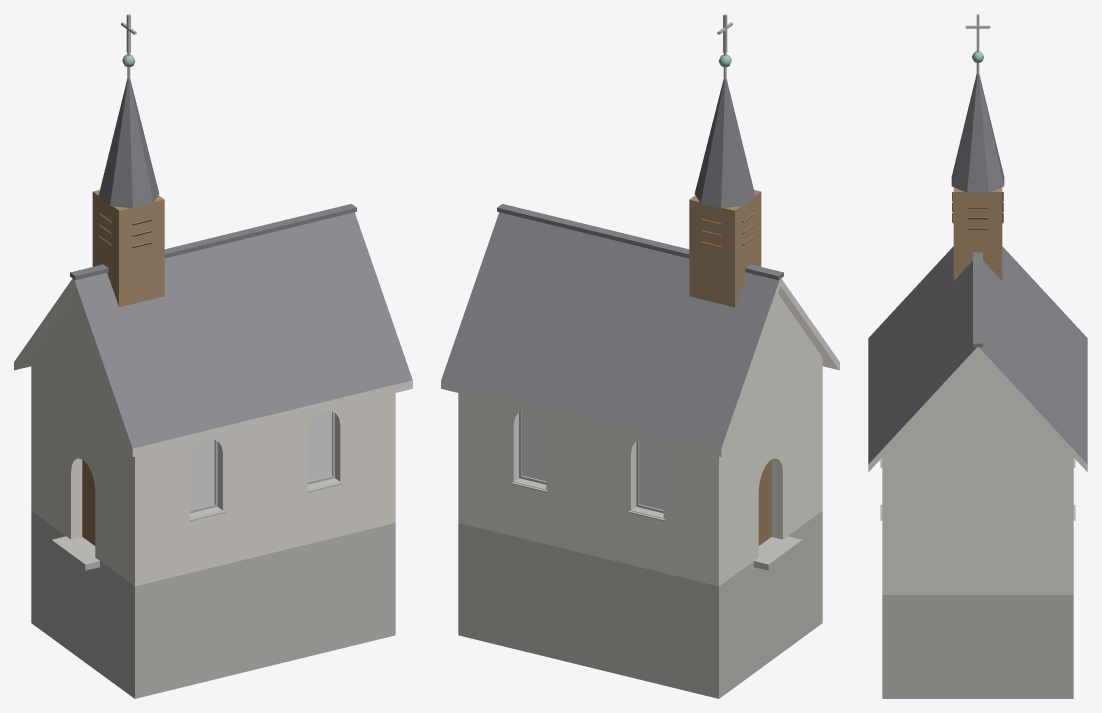
The model's file is chapel_s.glb.
3 views of the same model, side by side, from view 1: azimuth 30°, elevation 25°; view 2: azimuth 150°, elevation 25°; view 3: azimuth 270°, elevation 25° (orthographic). The views are drawn at different scales.
Visible parts, largest first — view 1: chapel_s; view 2: chapel_s; view 3: chapel_s.
Boxes of the visible parts, left/top/right/bottom form: chapel_s: left=14, top=14, right=412, bottom=698; chapel_s: left=441, top=14, right=839, bottom=698; chapel_s: left=868, top=14, right=1087, bottom=698.
Bounding box in the file's own units: 8.77 × 18.63 × 6.3.
